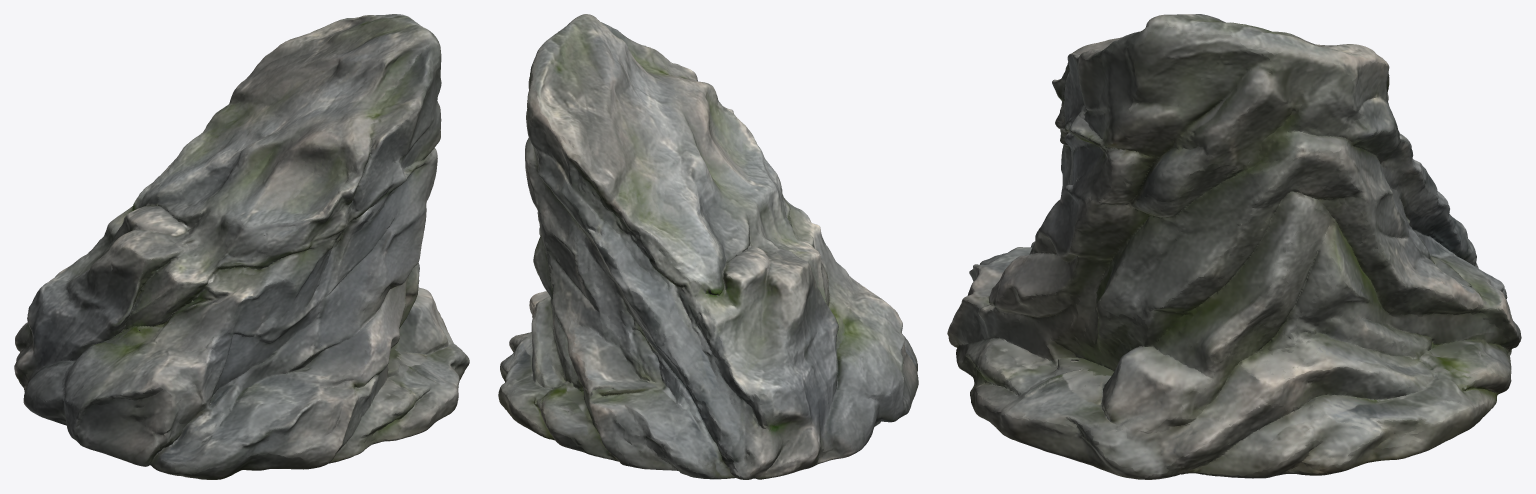
File: coastal-boulder.glb
3 renders of one model, left to right at view 1: azimuth 30°, elevation 25°; view 2: azimuth 150°, elevation 25°; view 3: azimuth 270°, elevation 25°, orthographic. The views are drawn at different scales.
Parts seen in each view (by area): view 1: geometry_0; view 2: geometry_0; view 3: geometry_0.
Boxes of the visible parts, left/top/right/bottom form: geometry_0: left=14, top=14, right=469, bottom=479; geometry_0: left=498, top=14, right=918, bottom=479; geometry_0: left=947, top=14, right=1521, bottom=479.
Size of the model in its own units: 1.2 by 1.04 by 1.2.
1 material, 1 textured.
